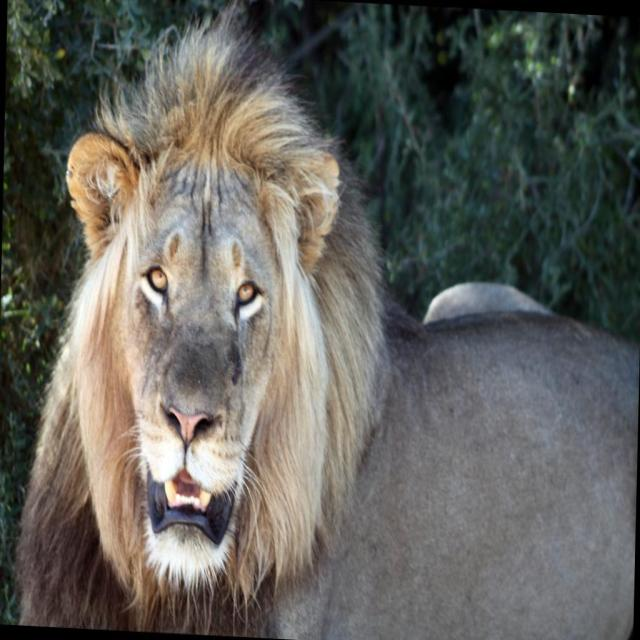Lion: (16, 0, 640, 639)
